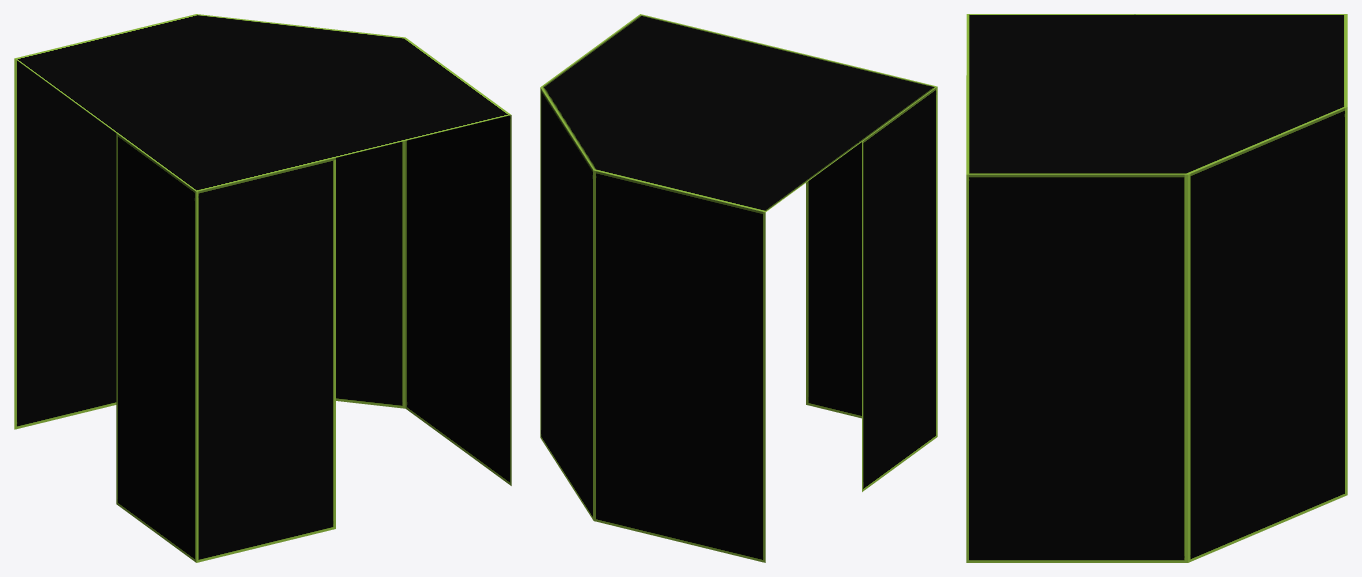
The model's file is Ghost_House_Edge_1.fbx.
The picture shows the model from 3 angles, left to right: view 1: azimuth 30°, elevation 25°; view 2: azimuth 150°, elevation 25°; view 3: azimuth 270°, elevation 25°; orthographic projection. The views are drawn at different scales.
Visible parts, largest first — view 1: Ghost_house; view 2: Ghost_house; view 3: Ghost_house.
Boxes of the visible parts, bbox=[...] form: Ghost_house: bbox=[14, 14, 511, 562]; Ghost_house: bbox=[540, 14, 937, 562]; Ghost_house: bbox=[966, 14, 1347, 562].
Bounding box in the file's own units: 44.39 × 50 × 44.48.
1 material, 1 textured.
